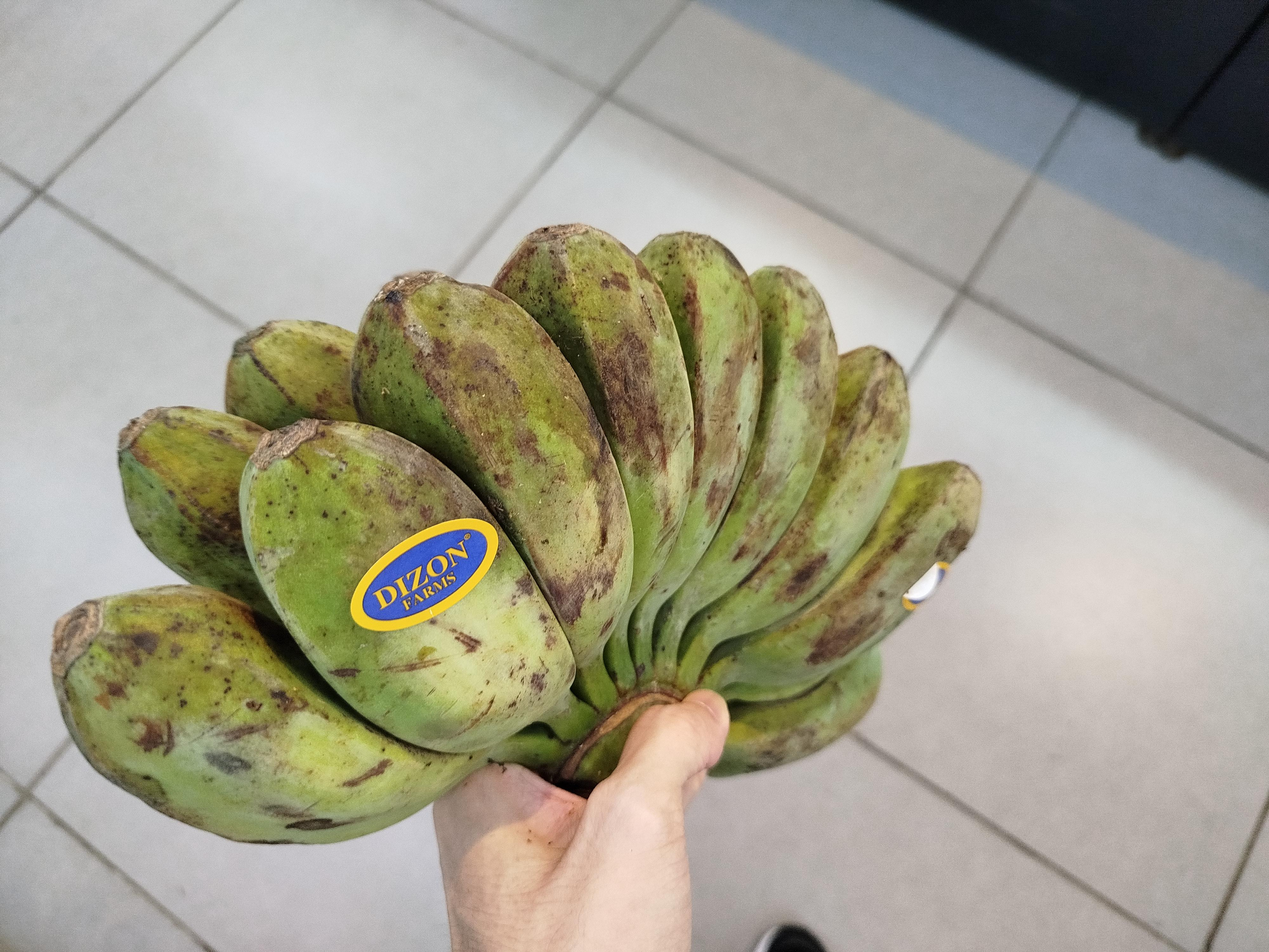underripe: (52, 224, 979, 843)
